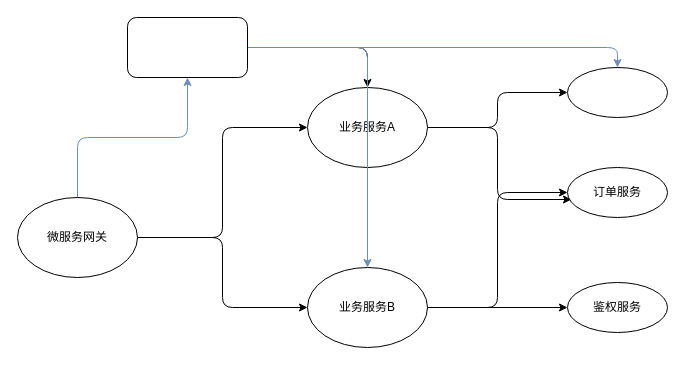
This 685x365 diagram has some shape labels left out. The shapes that lost their labels are listed below. From the top down, each one's box as (x1, y1, x2, y2) in pixels, then its label:
(126, 16, 248, 78): 注册中心 etcd
(566, 66, 668, 118): 用户服务
